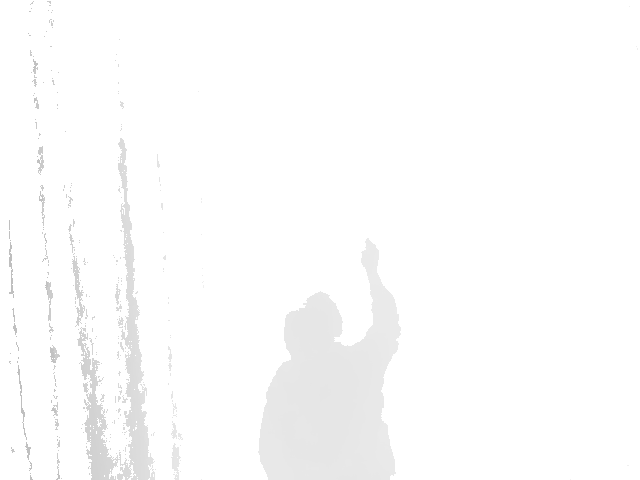hand: (360, 237, 382, 282)
head: (281, 290, 347, 364)
person: (259, 237, 402, 480)
